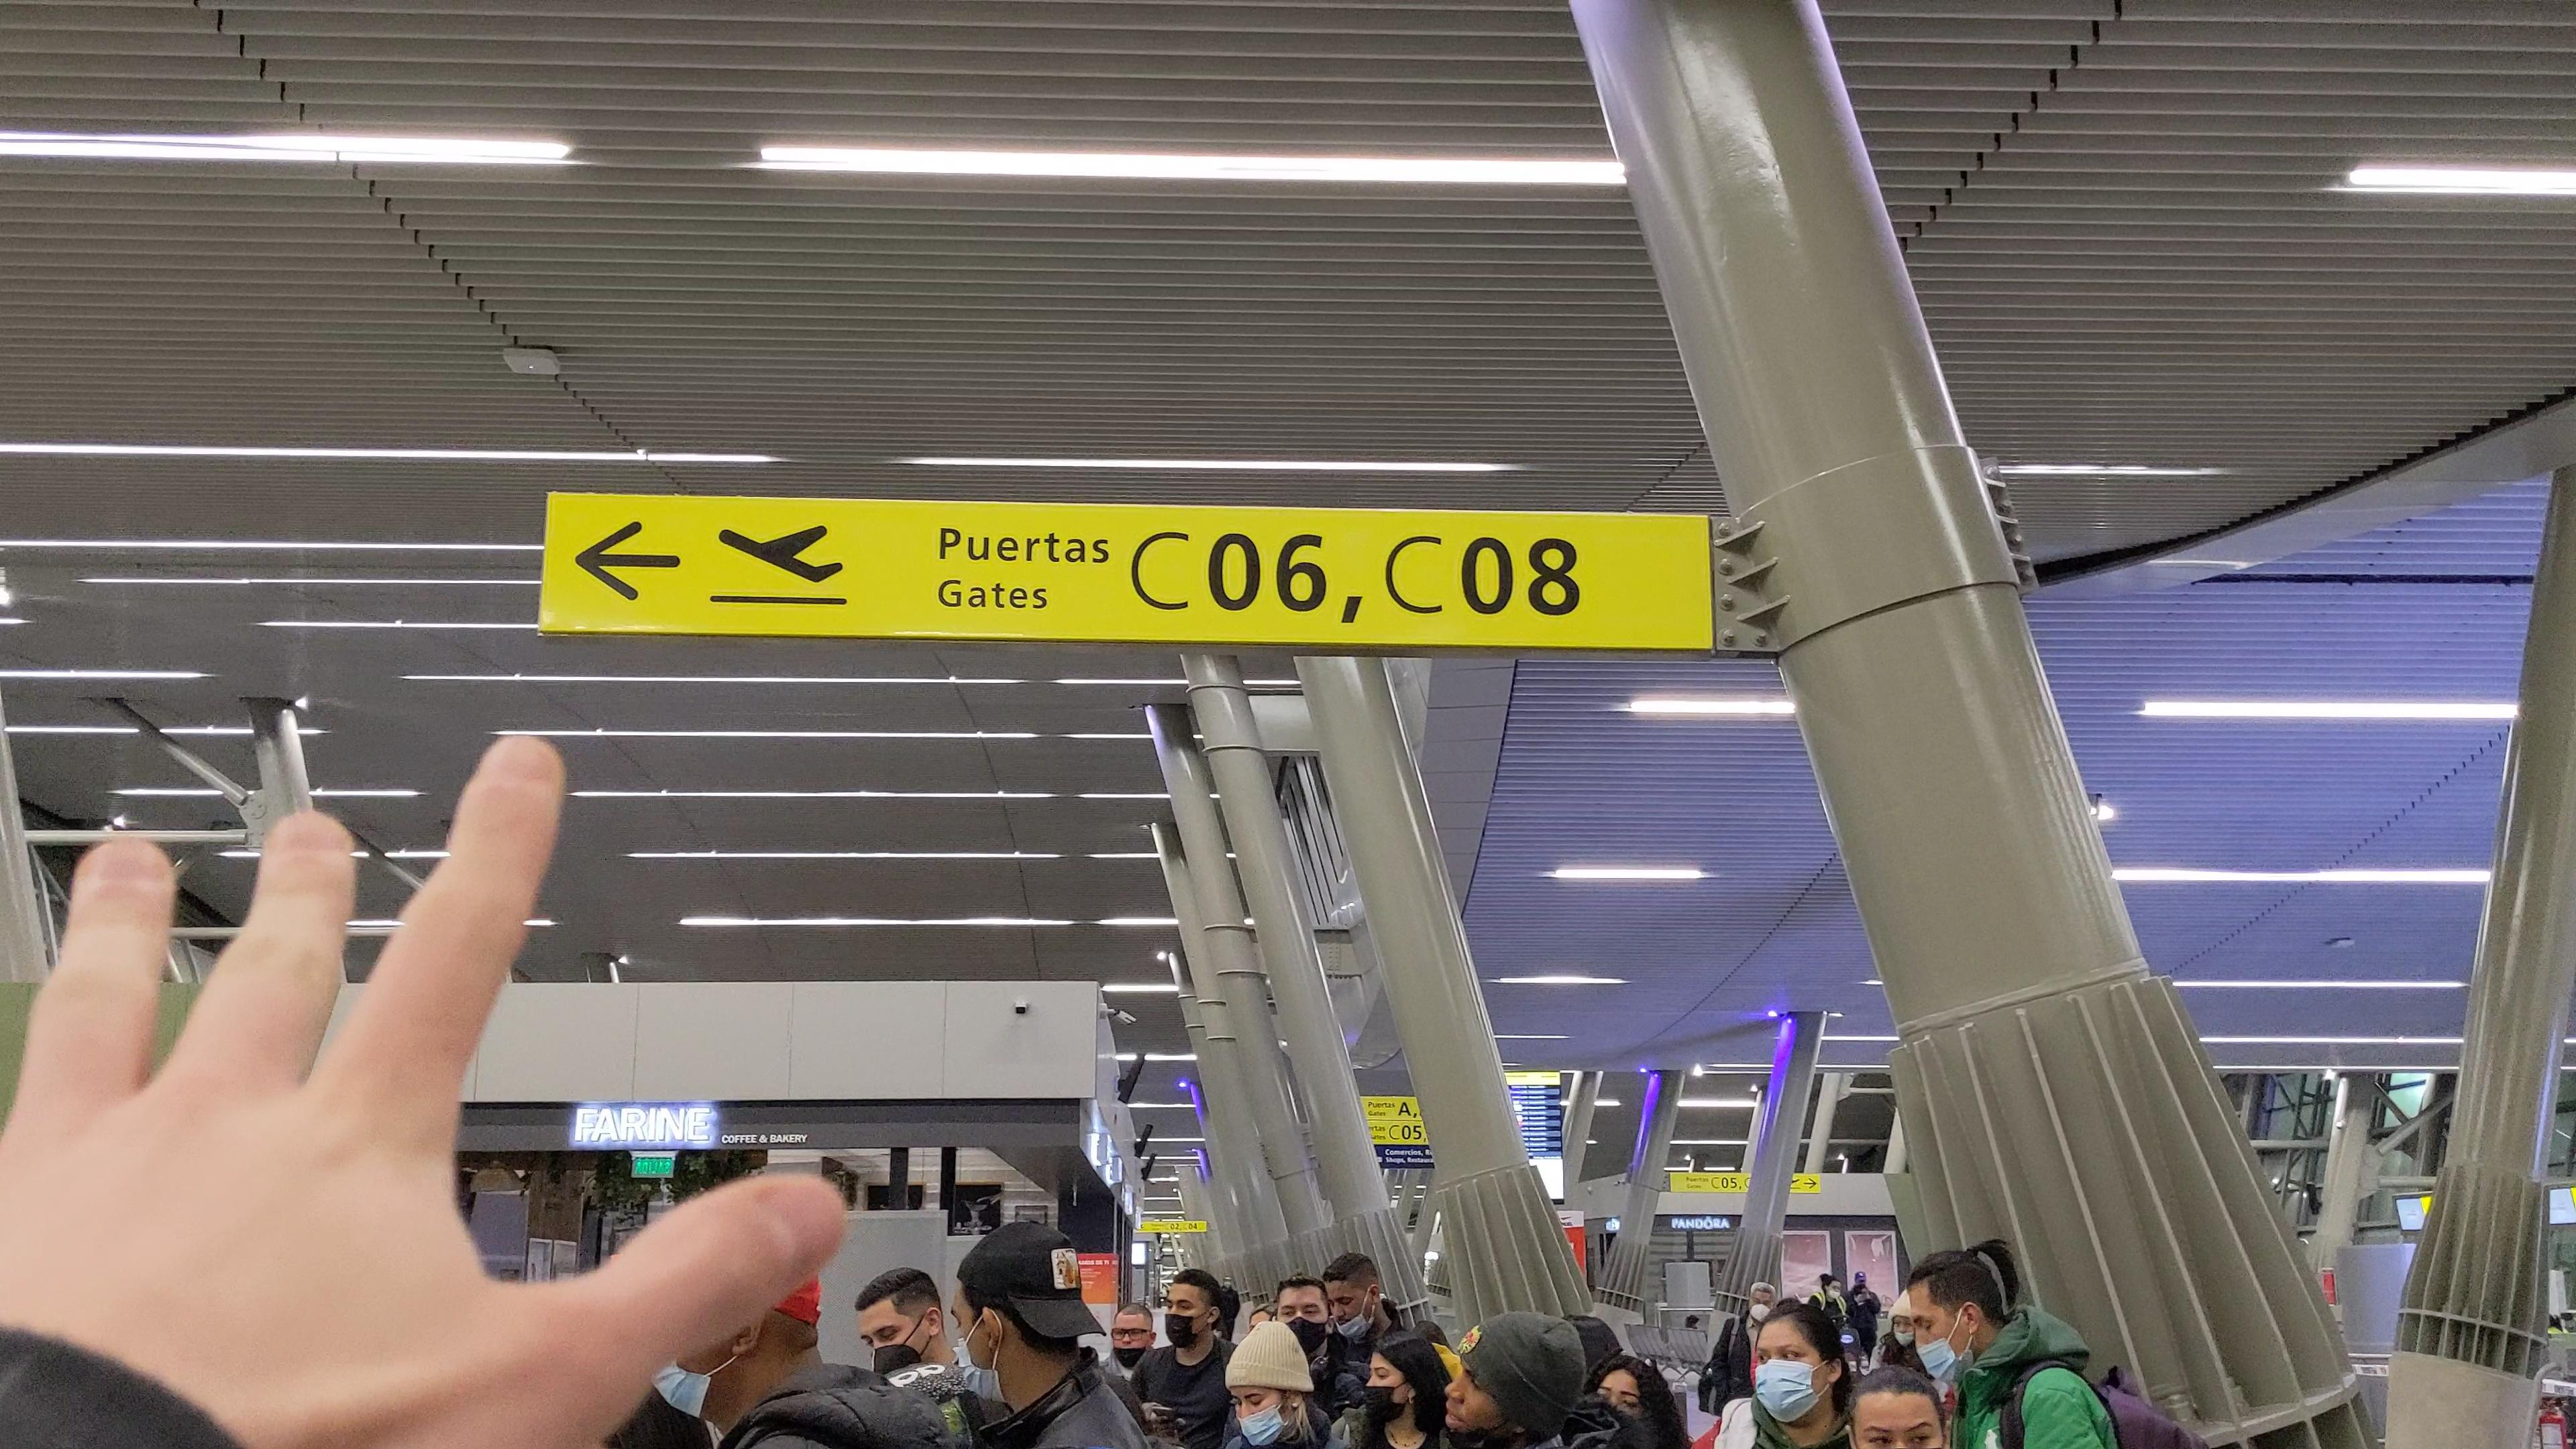airplane symbol: (717, 522, 847, 587)
thin left arrow: (575, 518, 686, 605)
thin right arrow: (1803, 1177, 1819, 1191)
